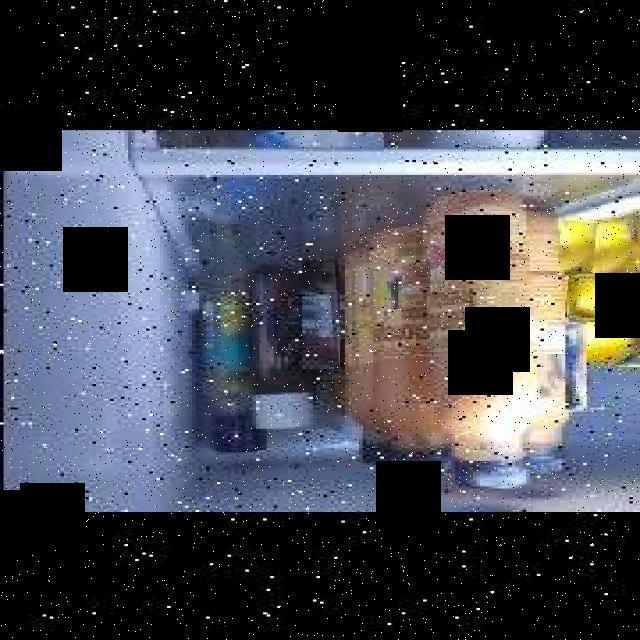banana: (558, 218, 640, 273), (567, 273, 638, 316), (597, 218, 640, 275), (586, 320, 640, 362)
tomato_sauce: (304, 258, 340, 367)
yogurt: (565, 322, 587, 408)
